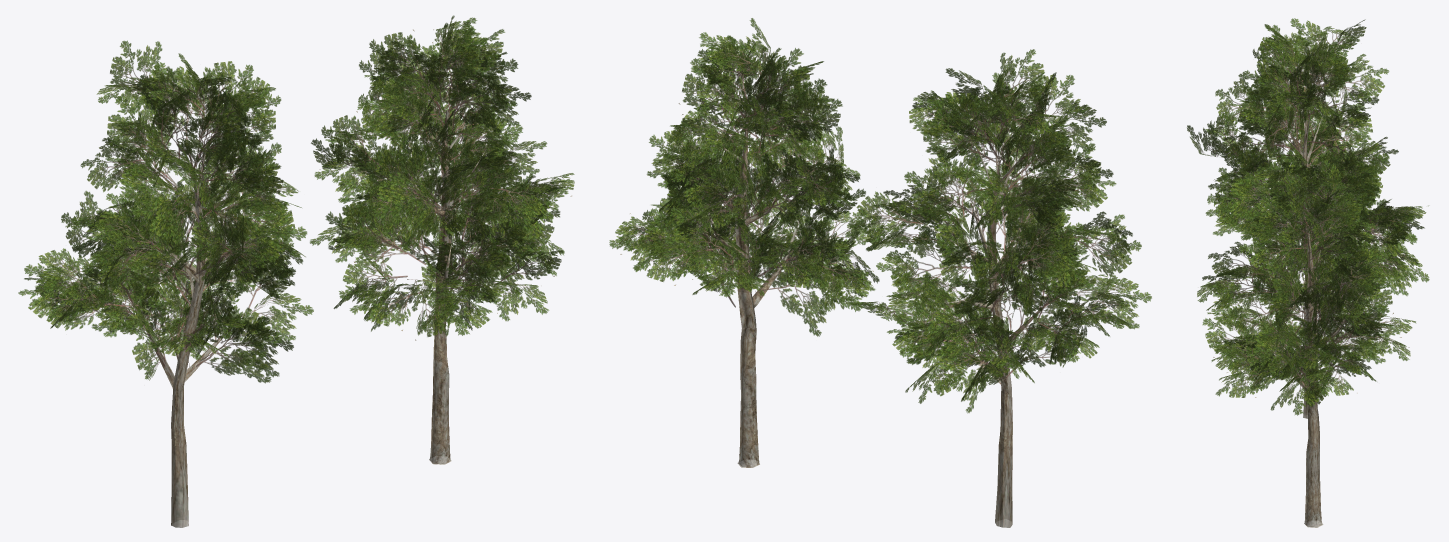
File: tree_low_poly_lowpoly.glb
3 views of the same model, side by side, from view 1: azimuth 30°, elevation 25°; view 2: azimuth 150°, elevation 25°; view 3: azimuth 270°, elevation 25° (orthographic). The views are drawn at different scales.
Parts seen in each view (by area): view 1: Tree 1_Tree 1_0; view 2: Tree 1_Tree 1_0; view 3: Tree 1_Tree 1_0.
Part boxes in pixels (x1,y1,x2,y2): Tree 1_Tree 1_0: [18, 15, 574, 527]; Tree 1_Tree 1_0: [609, 18, 1151, 527]; Tree 1_Tree 1_0: [1187, 18, 1429, 527].
Size of the model in its own units: 10.73 by 8.99 by 5.22.
Materials: 1 (1 with a texture image).
